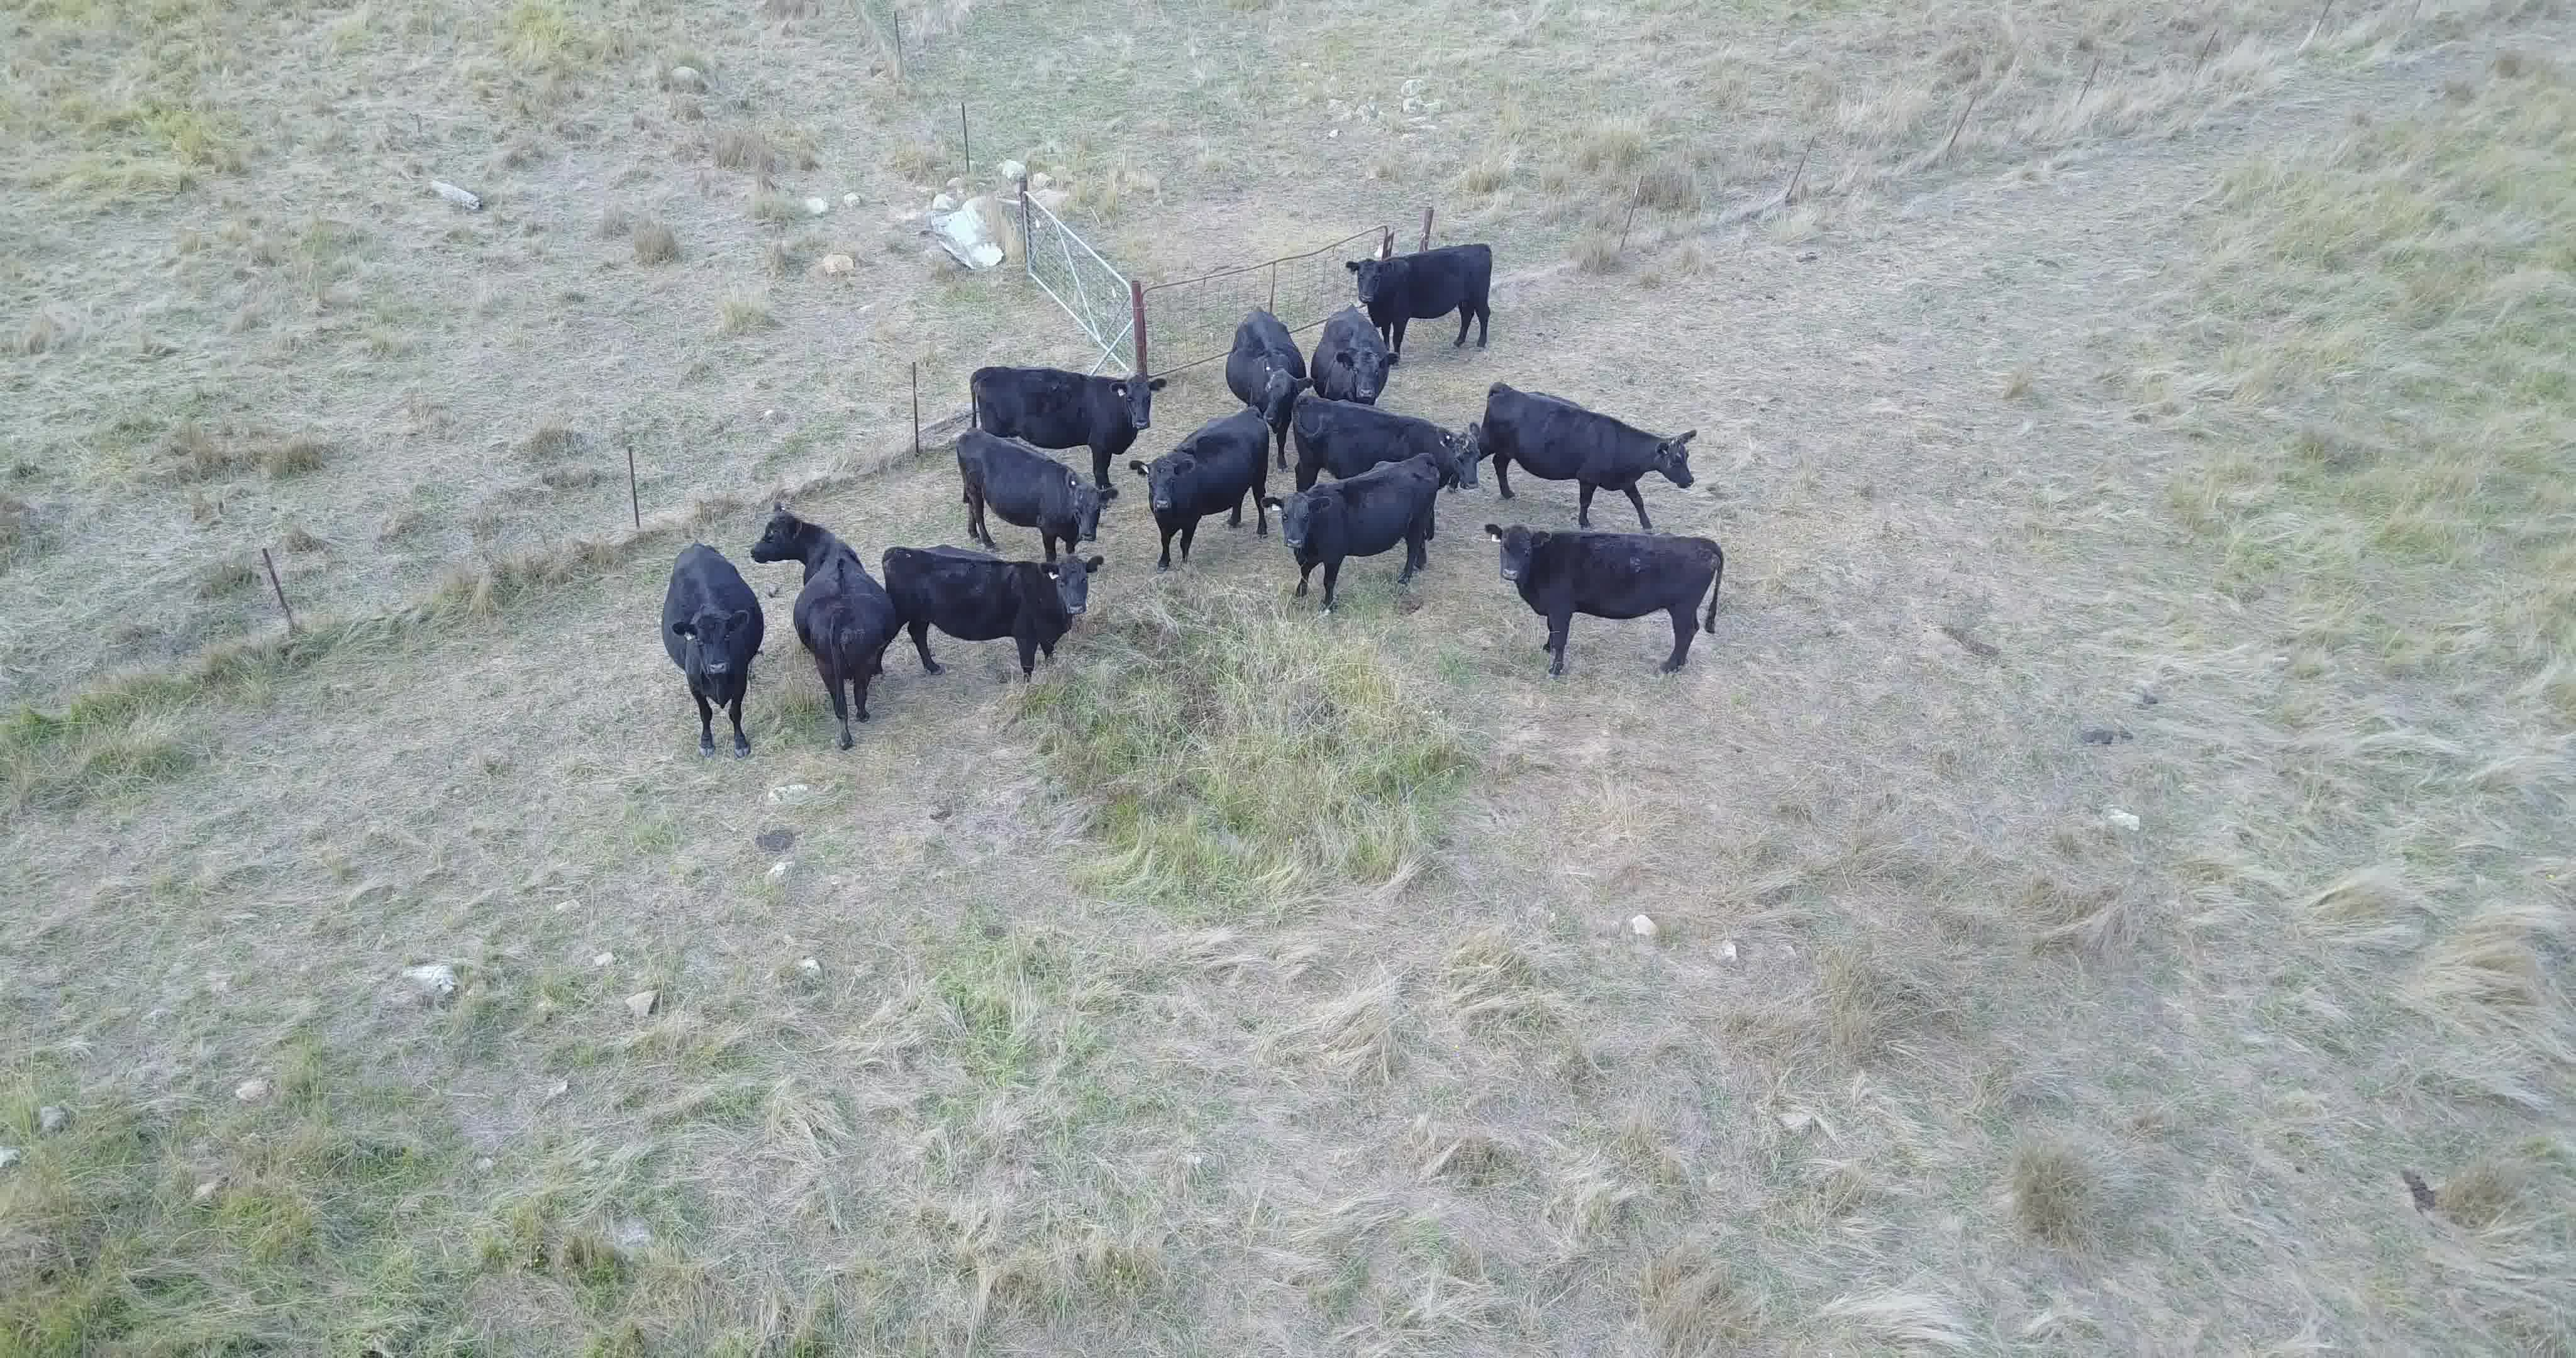cattle: (1484, 515, 1734, 678), (750, 501, 896, 760), (1475, 380, 1719, 532), (879, 537, 1113, 685), (1257, 448, 1445, 615), (966, 360, 1165, 499), (1119, 406, 1273, 573), (951, 424, 1124, 569), (658, 540, 762, 758), (1283, 395, 1482, 506), (1344, 239, 1494, 346), (1225, 305, 1312, 440), (1314, 305, 1400, 406)
